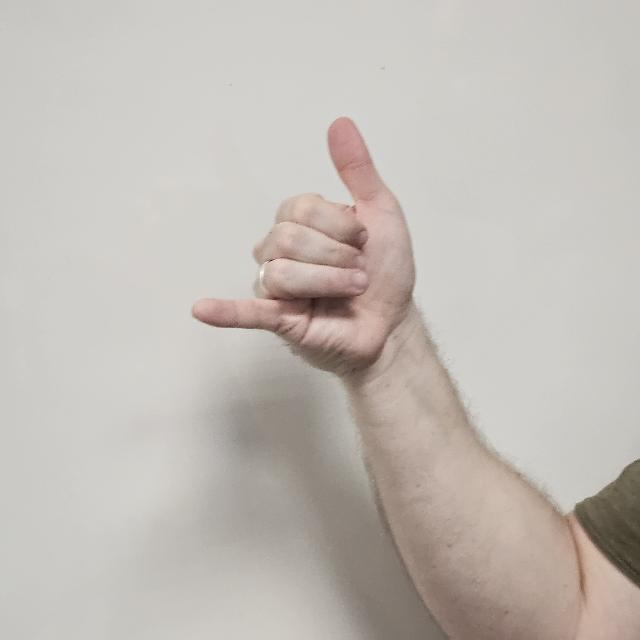Direita: (205, 90, 418, 404)
